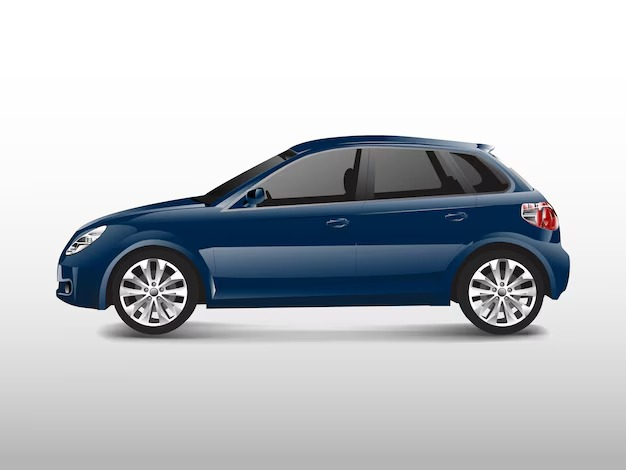car: (45, 131, 581, 334)
